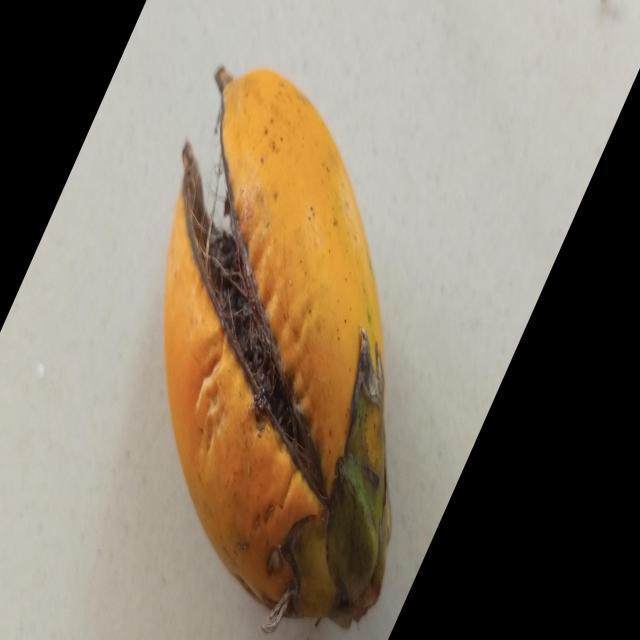damaged: (165, 67, 391, 632)
